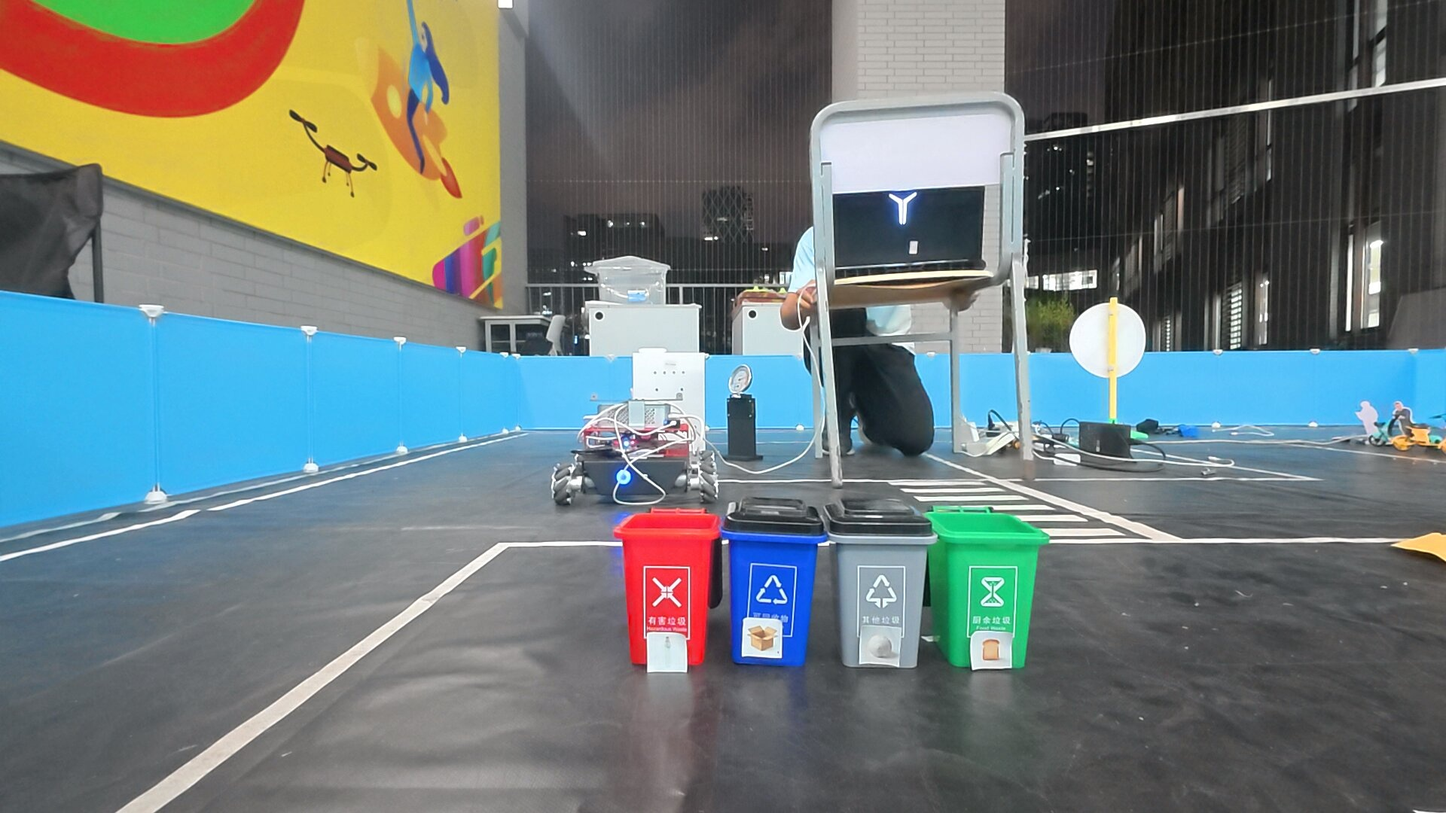food_trash: (973, 633, 1011, 669)
hazardous_trash: (652, 635, 683, 667)
other_trash: (862, 628, 901, 664)
recyclable_trash: (745, 622, 780, 656)
